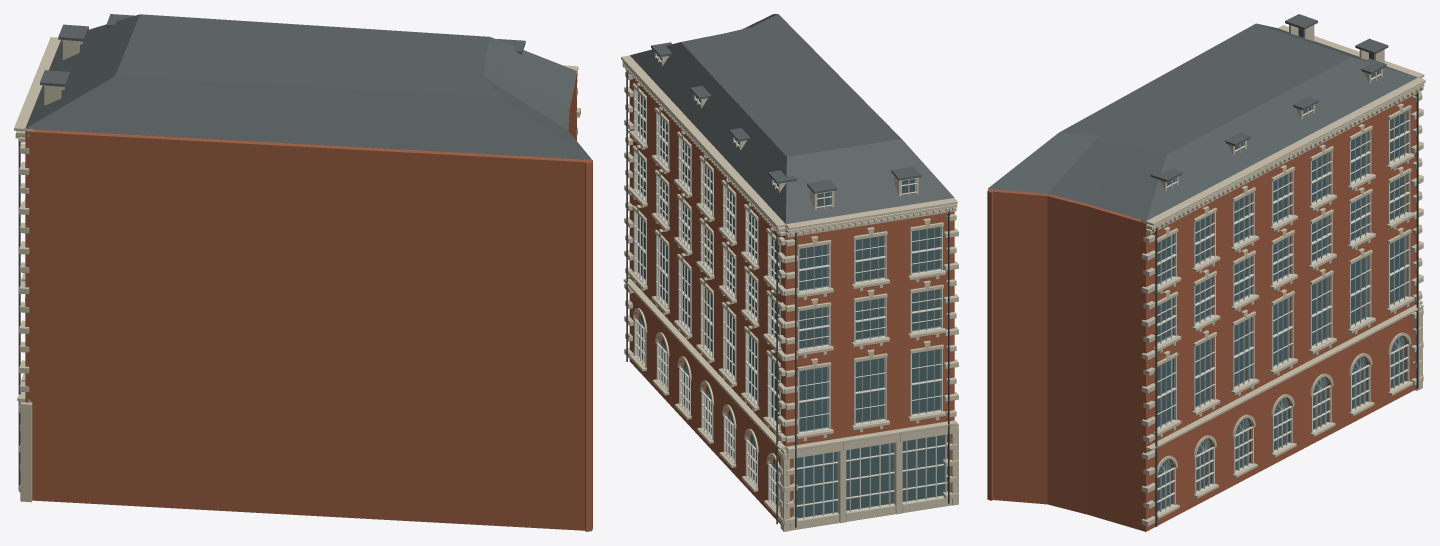
The model's file is lak-exterior-dfd3566010f7.glb.
3 views of the same model, side by side, from view 1: azimuth 30°, elevation 25°; view 2: azimuth 150°, elevation 25°; view 3: azimuth 270°, elevation 25° (orthographic). The views are drawn at different scales.
Parts seen in each view (by area): view 1: LAK.001; view 2: LAK.001; view 3: LAK.001.
Part boxes in pixels (x1=…): LAK.001: x1=14, y1=14, x2=592, y2=531; LAK.001: x1=621, y1=14, x2=958, y2=531; LAK.001: x1=987, y1=14, x2=1425, y2=531.
Bounding box in the file's own units: 21.55 × 17.55 × 20.1.
